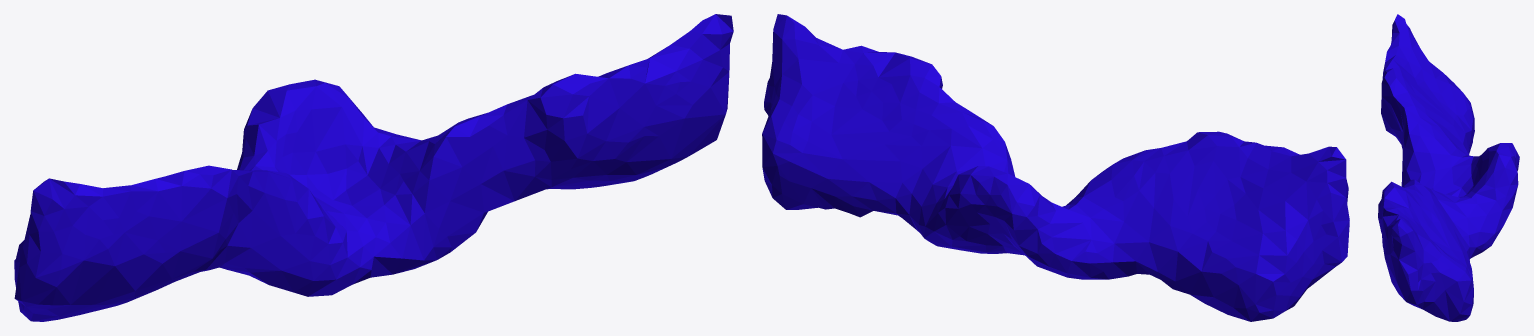
The model's file is 170-OPAl-orbital periallocortex-('0.1529', '0.0000', '1.0000').obj.
3 views of the same model, side by side, from view 1: azimuth 30°, elevation 25°; view 2: azimuth 150°, elevation 25°; view 3: azimuth 270°, elevation 25° (orthographic). The views are drawn at different scales.
Bounding box in the file's own units: 151 × 39.47 × 41.64.
